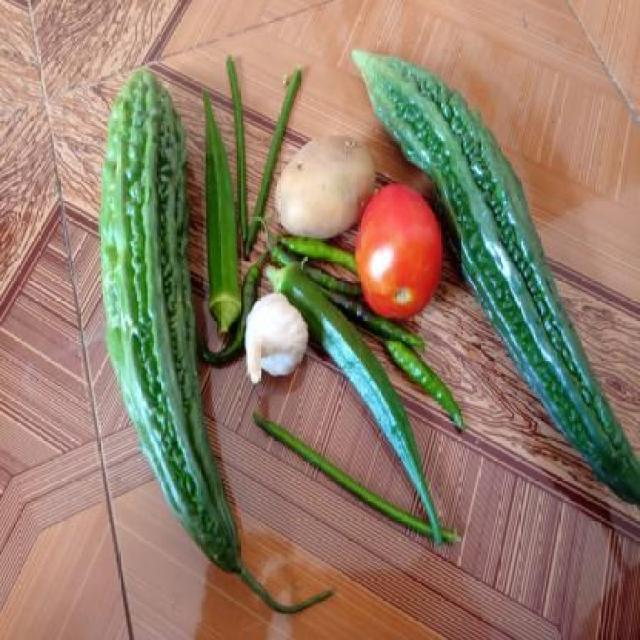Bitter melon: (103, 71, 214, 557)
Garlic: (243, 294, 308, 386)
Green Chili: (389, 337, 471, 434), (280, 236, 352, 292)
Lady finger: (196, 94, 242, 323)
Potato: (278, 132, 372, 232)
Tomato: (360, 184, 442, 320)
